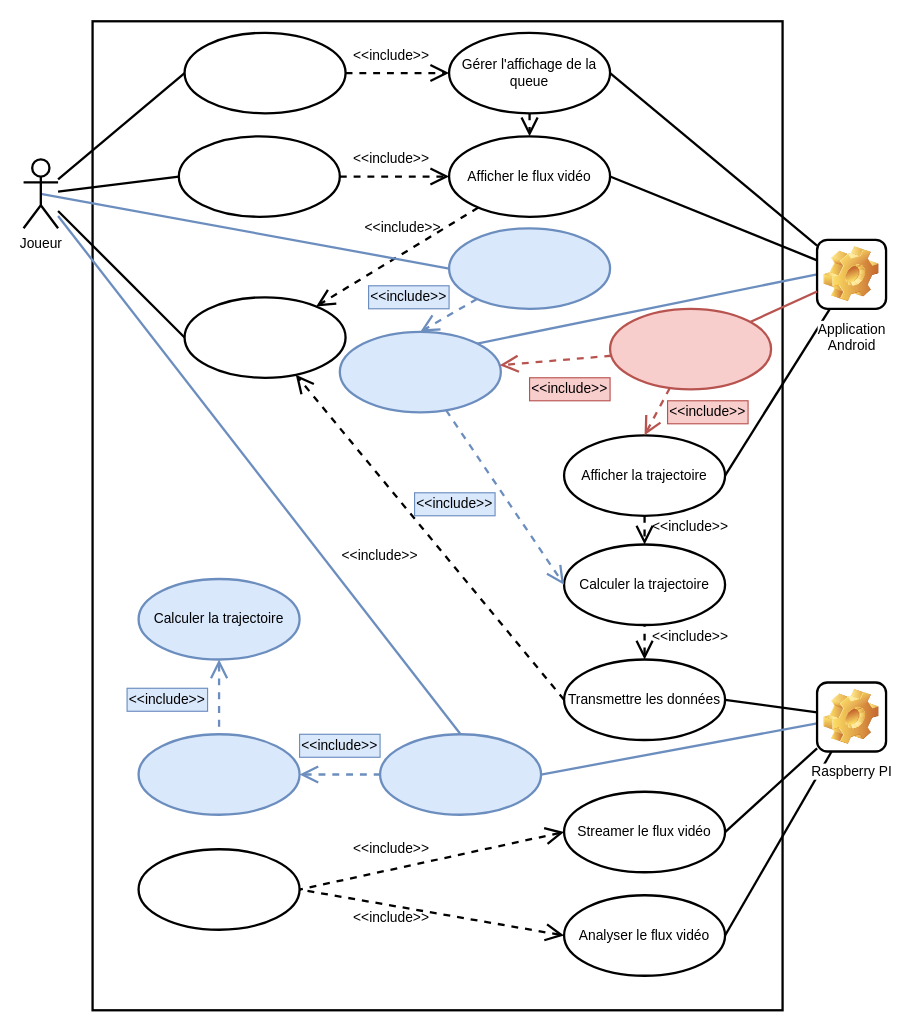
The diagram is 912 pixels wide and 1030 high, and some of its shapes have lost their labels. The box of each missing label's shape, as (x1, y1, x2, y2) in pixels:
Choisir une boule: (447, 227, 611, 309)
Construire image trajectoire: (137, 733, 300, 815)
Placer la queue: (183, 31, 346, 114)
Projeter trajectoire: (378, 733, 542, 815)
Proposer un coup: (608, 307, 772, 390)
Rechercher une trajectoire: (338, 330, 501, 413)
Réceptionner le flux vidéo: (137, 848, 300, 930)
Se connecter au Raspberry: (183, 296, 346, 378)
Visualiser le flux vidéo: (177, 135, 340, 217)
